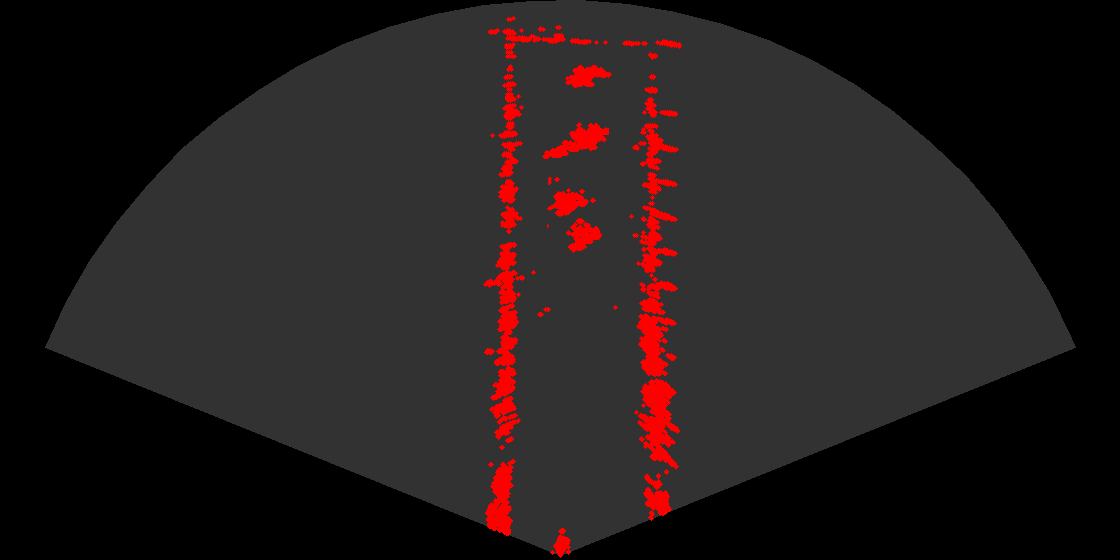AUV: (559, 63, 615, 95)
cage: (547, 177, 610, 261)
frogman: (541, 116, 609, 163)
